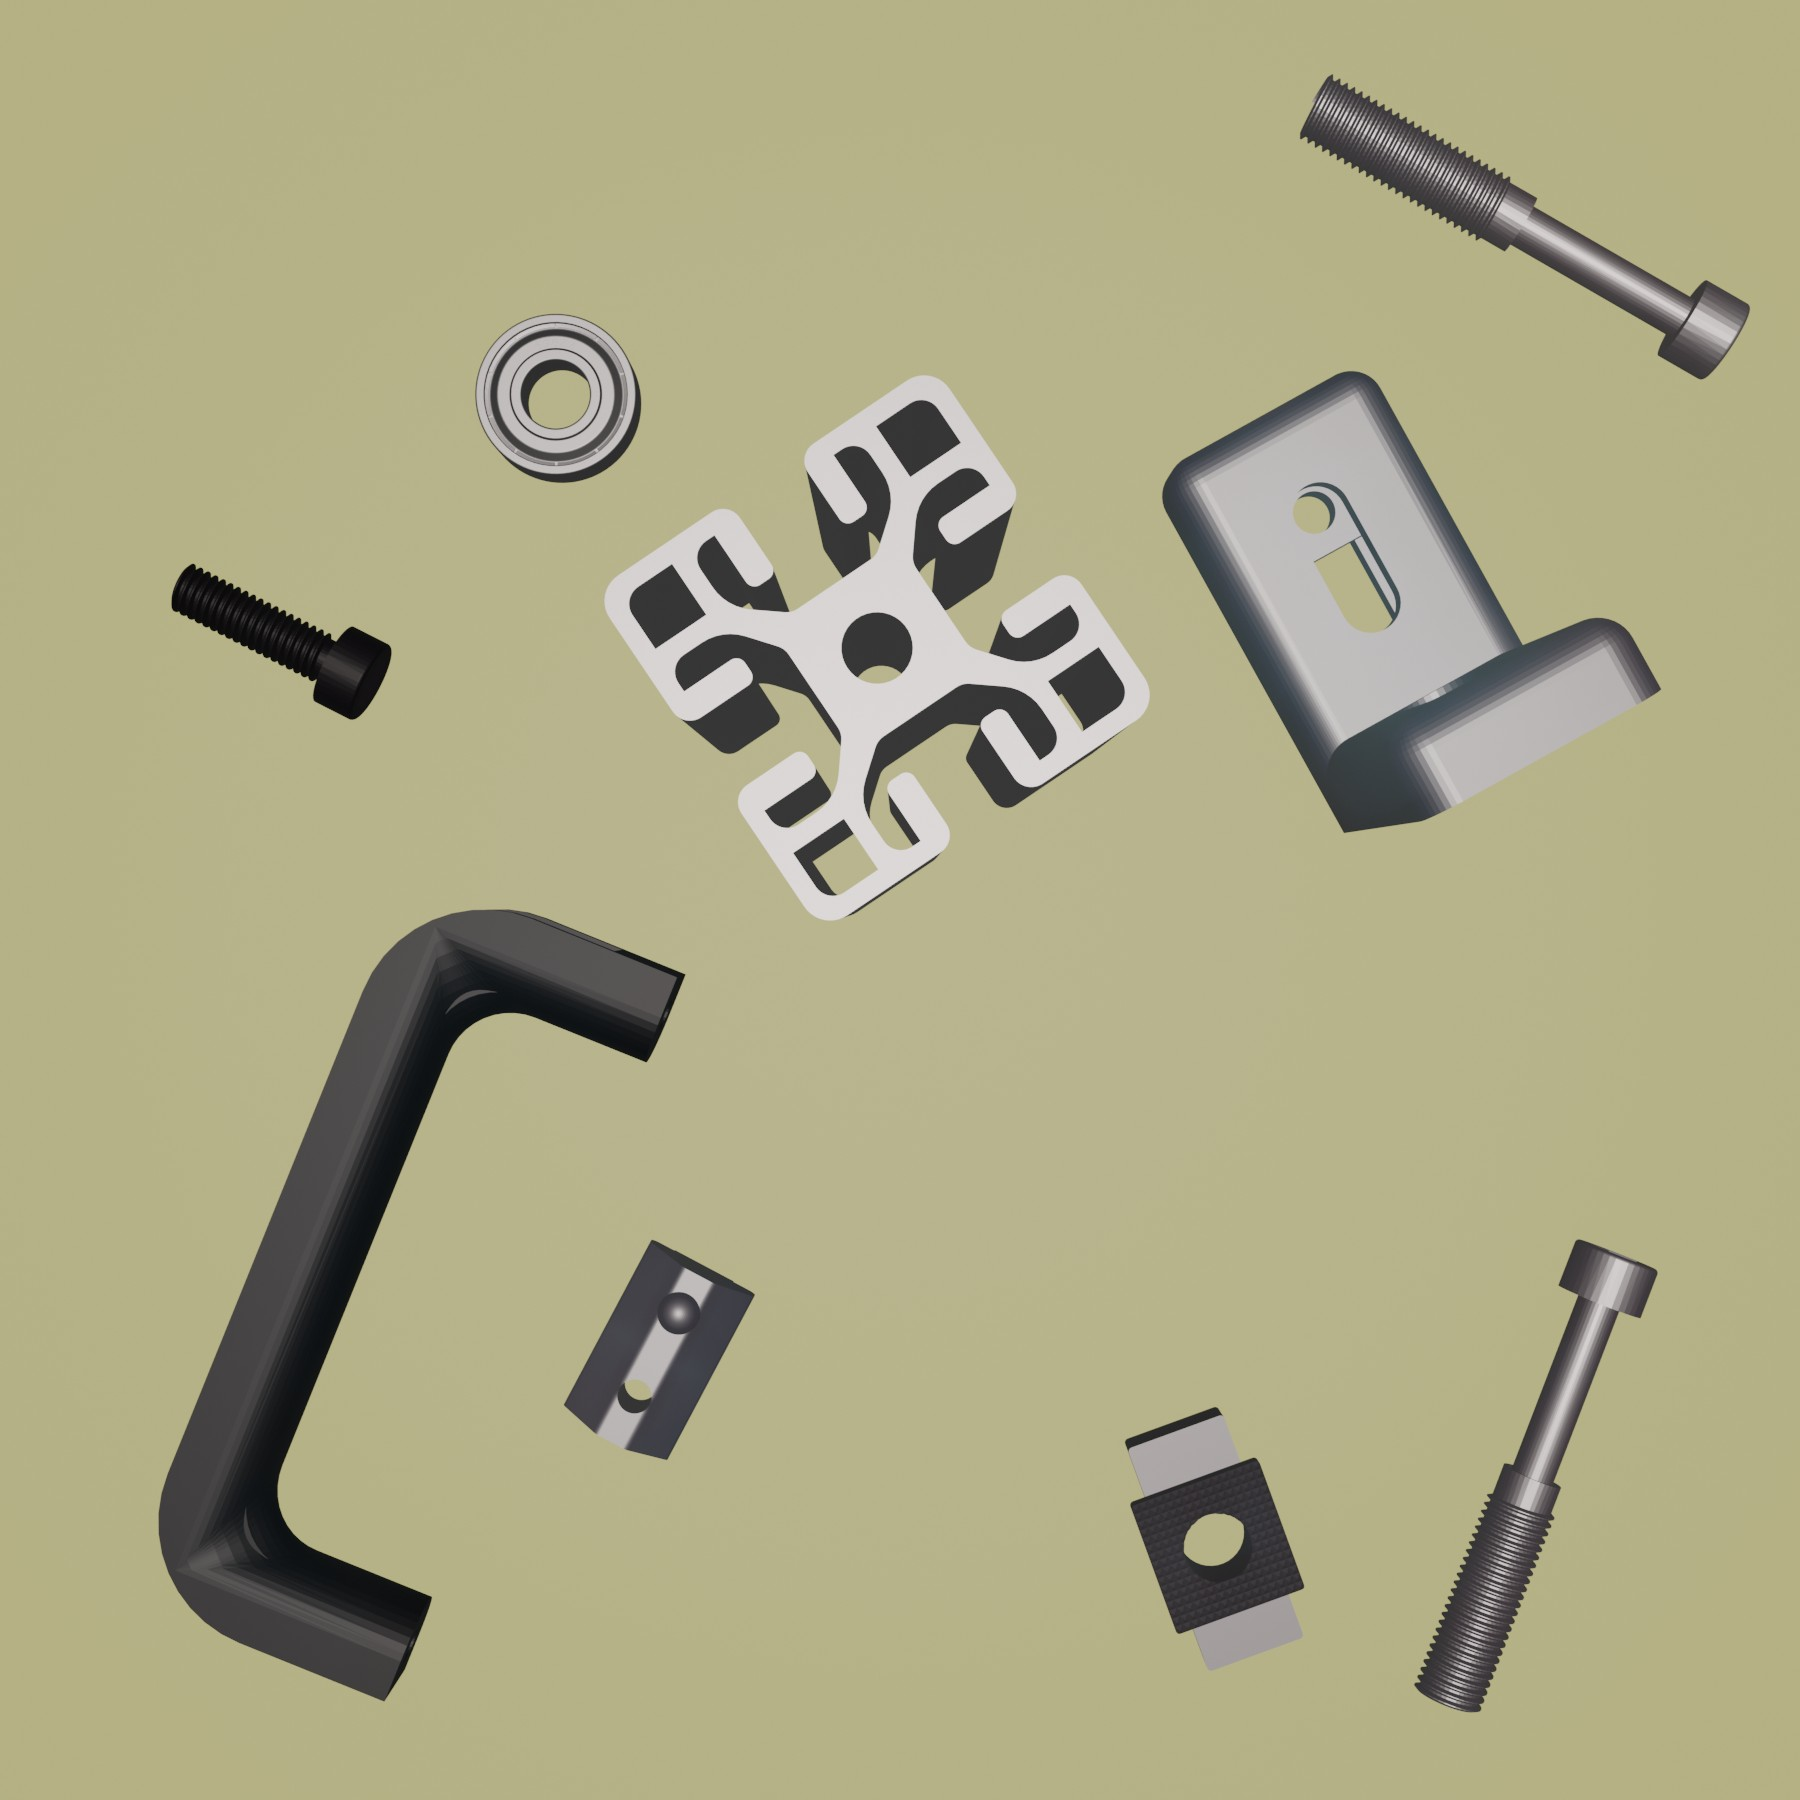Aluminium Extension: (602, 373, 1155, 928)
Ball Bearing: (470, 312, 645, 486)
Multiwinkel: (1159, 366, 1663, 836)
Pull Handle: (157, 905, 689, 1704)
Shoulder Socket Head Cap Screw: (1296, 69, 1751, 382), (1413, 1235, 1662, 1716)
Socket Head Cap Screw: (166, 559, 392, 724)
T Nut Square: (1123, 1404, 1305, 1675)
T Spring Nut: (562, 1235, 758, 1460)
